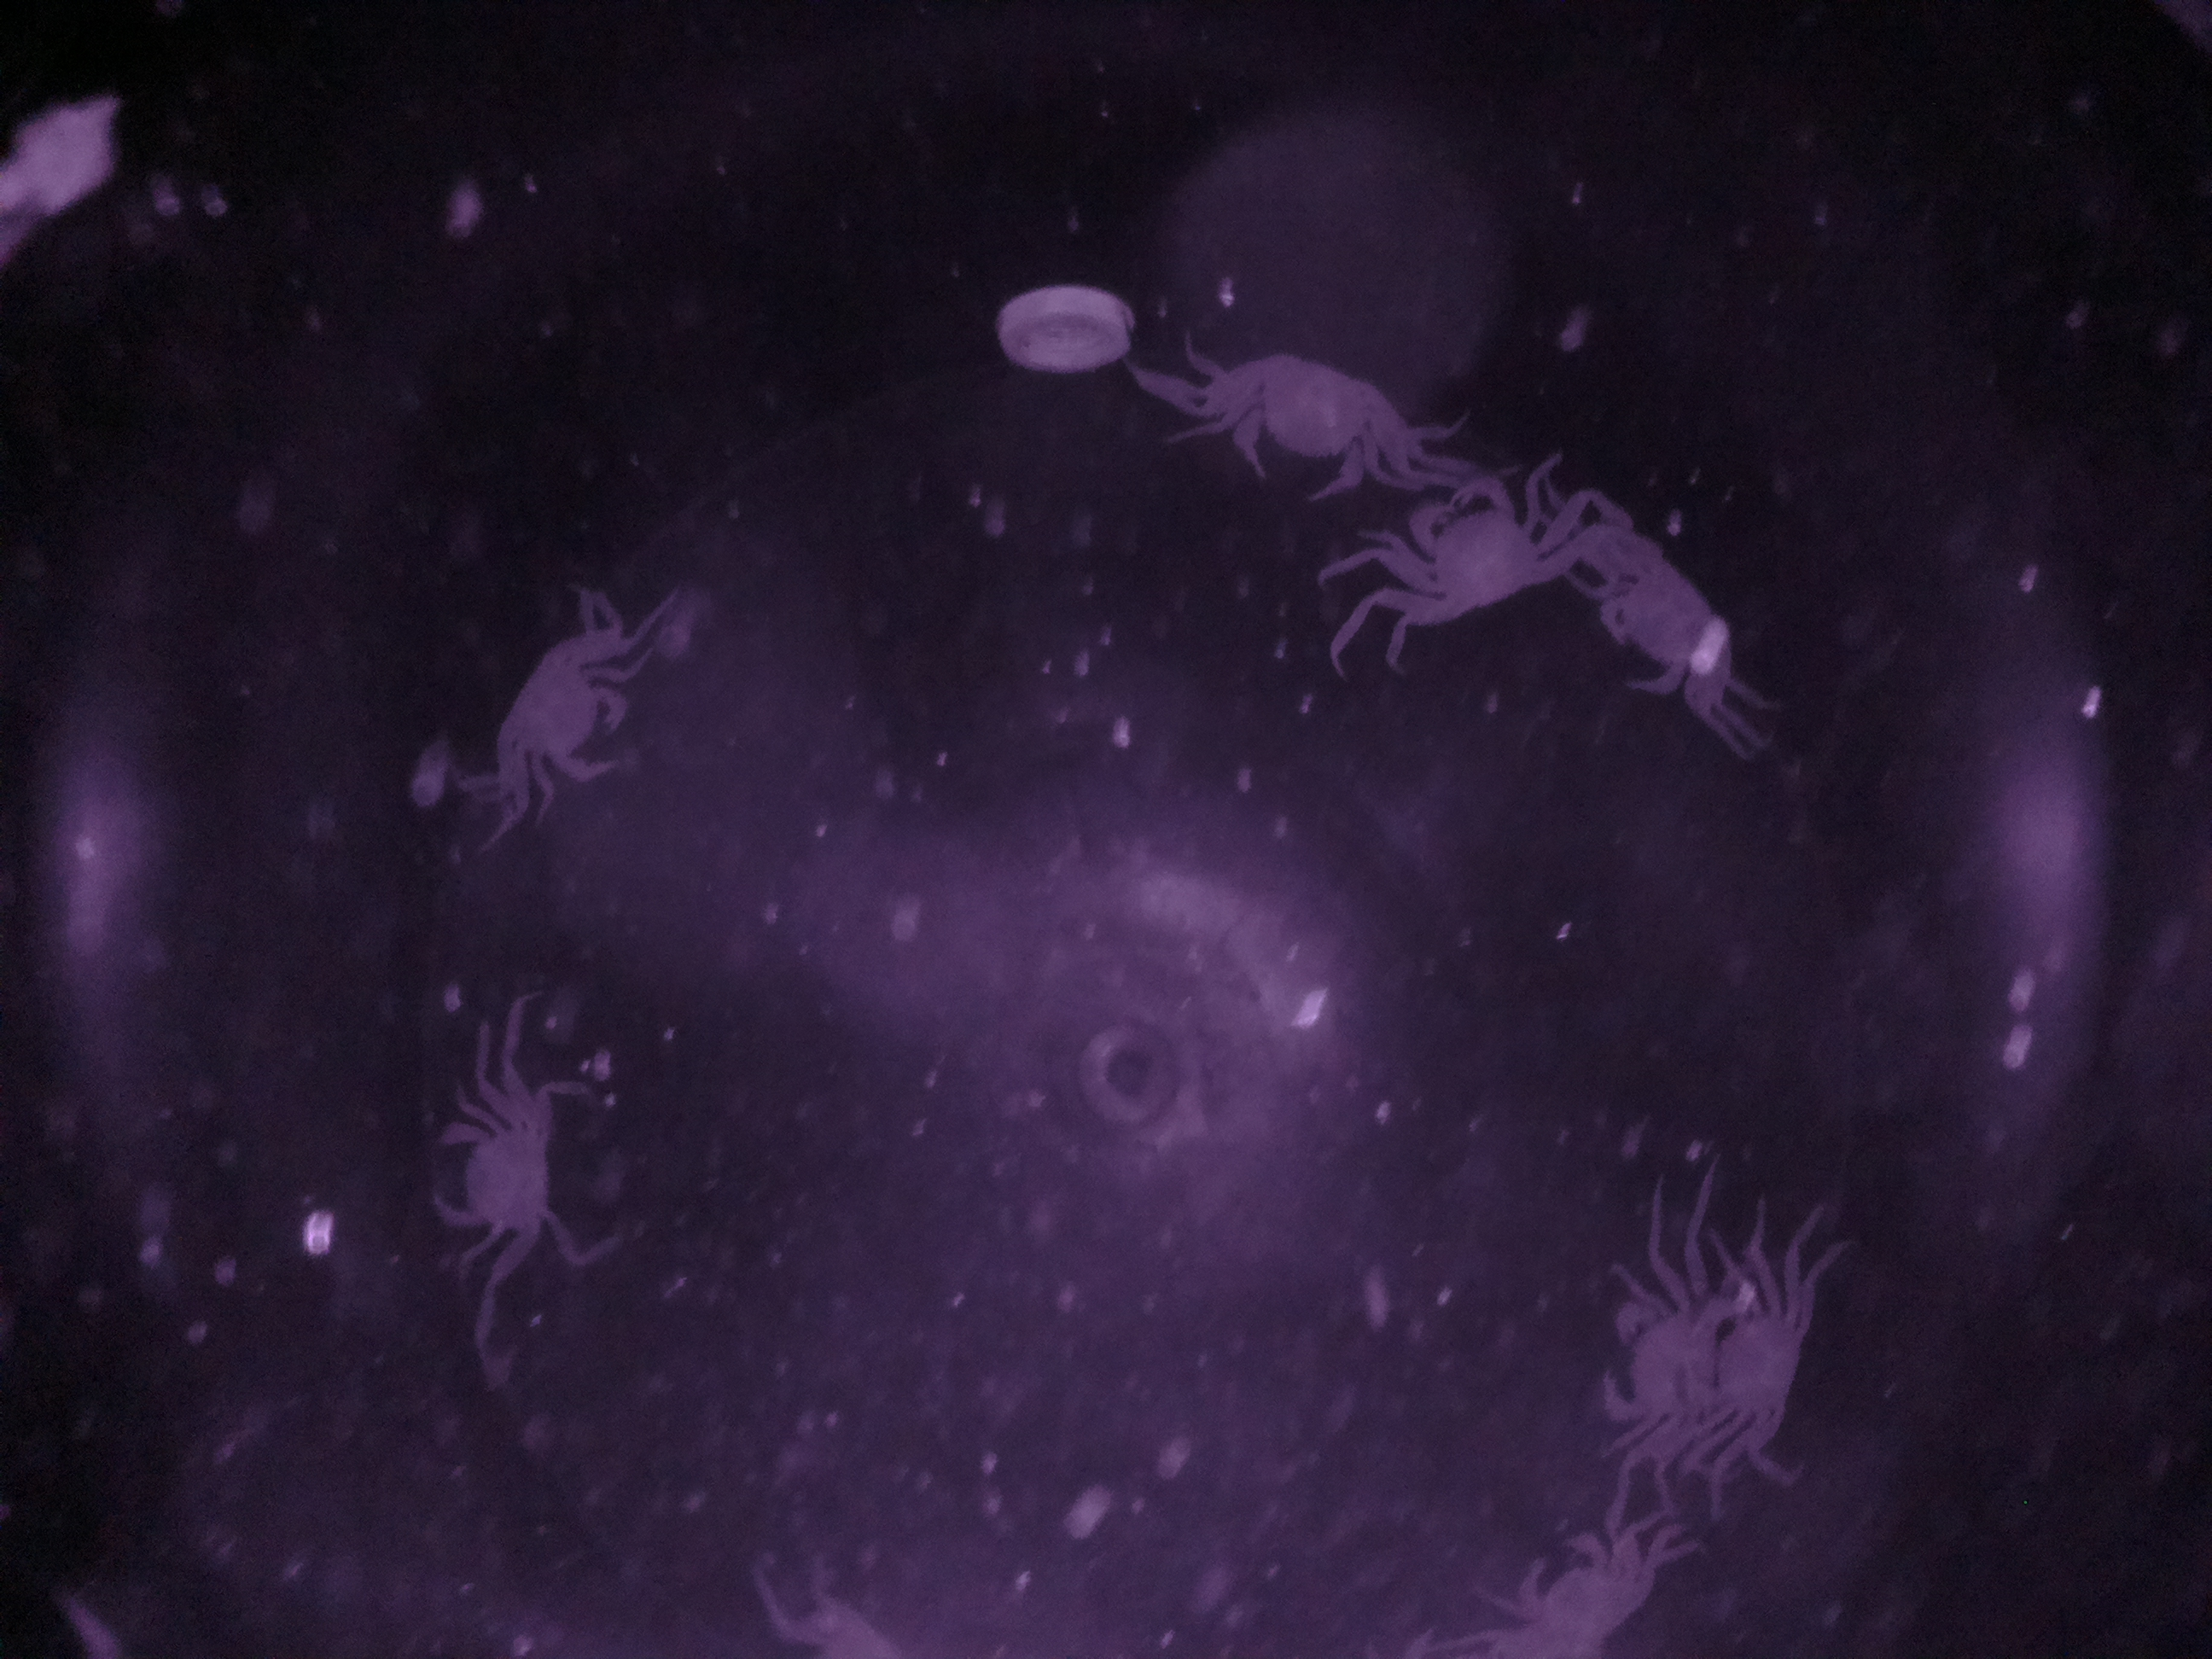Crab: (1184, 342, 1416, 516), (1374, 455, 1561, 647), (482, 620, 650, 807), (1672, 1258, 1817, 1473), (406, 1100, 585, 1256)
